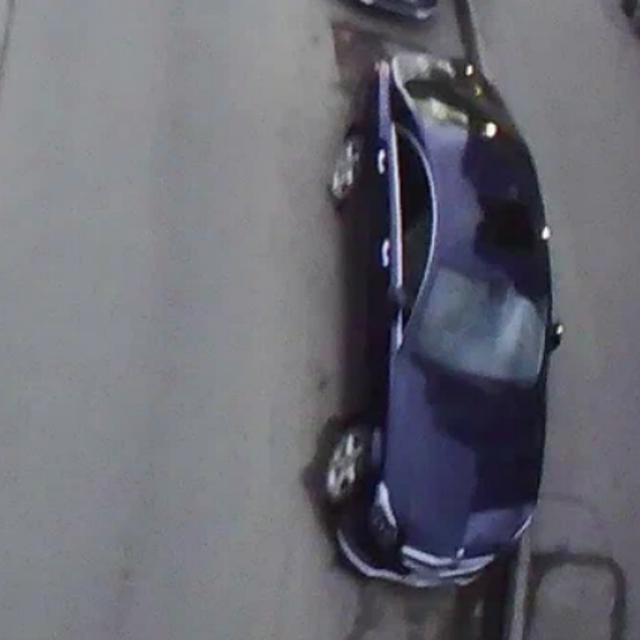car: (320, 55, 562, 590)
